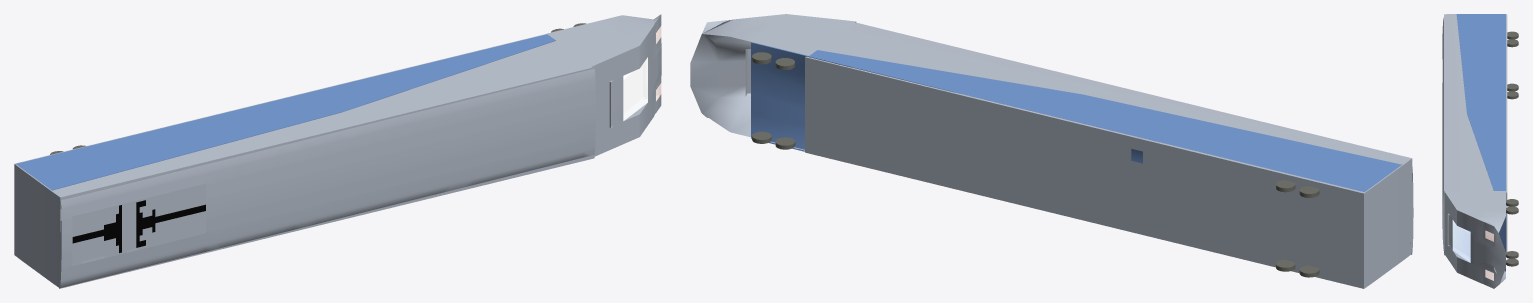
File: asset4.glb
3 views of the same model, side by side, from view 1: azimuth 30°, elevation 25°; view 2: azimuth 150°, elevation 25°; view 3: azimuth 270°, elevation 25° (orthographic). The views are drawn at different scales.
Parts seen in each view (by area): view 1: Cylinder2, Cube1_copy12, Cylinder13_copy14, Cylinder13, Cube13_copy14, Cube13_copy16; view 2: Cube1_copy12, Cylinder13_copy14, Cylinder13; view 3: Cylinder13_copy14, Cylinder13, Cube1_copy12, Cylinder2, Cylinder4_copy7, Cylinder4_copy6, Cylinder4_copy11, Cylinder4_copy10, Cylinder4_copy5, Cylinder4_copy8, Cylinder4, Cylinder4_copy9.
Part boxes in pixels (bbox=[...]): Cylinder2: bbox=[58, 68, 595, 288]; Cube1_copy12: bbox=[14, 34, 594, 288]; Cylinder13_copy14: bbox=[16, 34, 555, 190]; Cylinder13: bbox=[547, 14, 661, 156]; Cube13_copy14: bbox=[136, 200, 155, 247]; Cube13_copy16: bbox=[104, 205, 121, 252]; Cube1_copy12: bbox=[805, 22, 1412, 288]; Cylinder13_copy14: bbox=[751, 42, 1401, 191]; Cylinder13: bbox=[690, 14, 856, 150]; Cylinder13_copy14: bbox=[1456, 14, 1505, 271]; Cylinder13: bbox=[1444, 191, 1505, 288]; Cube1_copy12: bbox=[1444, 14, 1507, 255]; Cylinder2: bbox=[1442, 17, 1444, 253]; Cylinder4_copy7: bbox=[1506, 206, 1518, 214]; Cylinder4_copy6: bbox=[1506, 258, 1518, 266]; Cylinder4_copy11: bbox=[1506, 199, 1518, 206]; Cylinder4_copy10: bbox=[1506, 251, 1518, 258]; Cylinder4_copy5: bbox=[1507, 31, 1518, 39]; Cylinder4_copy8: bbox=[1507, 91, 1518, 99]; Cylinder4: bbox=[1507, 83, 1518, 91]; Cylinder4_copy9: bbox=[1507, 39, 1518, 47].
Size of the model in its own units: 0.947 by 0.1306 by 0.1417.
